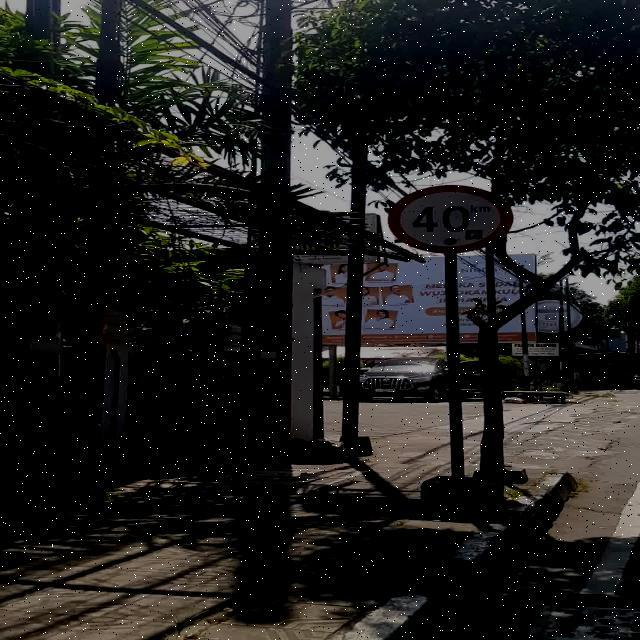Kecepatan Maks. 40 km: (388, 184, 514, 254)
